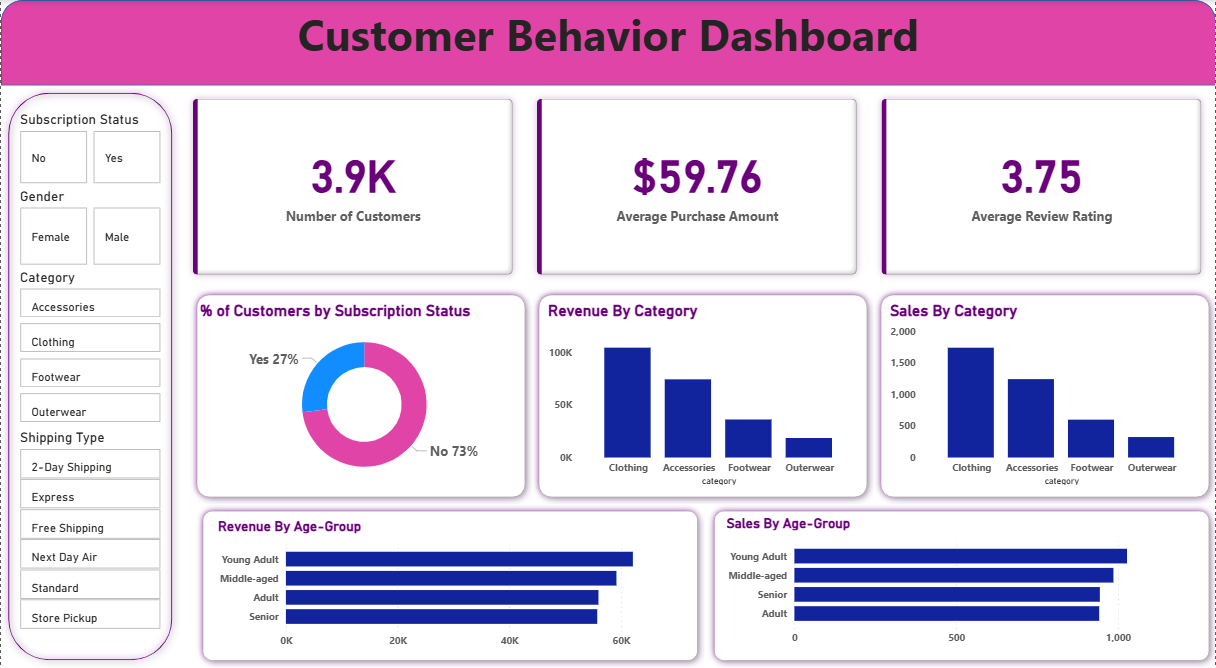

This screenshot's page, from the dashboard's own definition file:
{"tool":"powerbi","page":{"name":"Page 1","canvas":[1492,820],"ordinal":0},"visuals":[{"type":"cardVisual","fields":{"Data":["public customer.Number of Customers","public customer.Average Purchase Amount","public customer.Average Review Rating"]},"box":[219.3,105,1273.3,248.8],"z":0},{"type":"shape","box":[0,0,1492.6,105],"z":1000},{"type":"textbox","box":[0,0,1492.6,105],"z":2000},{"type":"shape","box":[232.2,353.8,420.1,265.3],"z":3000},{"type":"donutChart","title":"% of Customers by Subscription Status","fields":{"Category":["public customer.subscription_status"],"Y":["CountNonNull(public customer.customer_id)"]},"box":[239.6,370.4,412.8,230.3],"z":4000},{"type":"shape","box":[1072.4,353.8,420.1,265.3],"z":5000},{"type":"shape","box":[652.3,353.8,420.1,265.3],"z":6000},{"type":"clusteredColumnChart","title":"Revenue By Category","fields":{"Y":["Sum(public customer.purchase_amount)"],"Category":["public customer.category"]},"box":[667.1,370.4,390.7,230.3],"z":7000},{"type":"clusteredColumnChart","title":"Sales By Category","fields":{"Y":["CountNonNull(public customer.customer_id)"],"Category":["public customer.category"]},"box":[1087.2,370.4,390.7,230.3],"z":8000},{"type":"shape","box":[0,105,219.3,715],"z":9000},{"type":"advancedSlicerVisual","title":"Subscription Status","fields":{"Values":["public customer.subscription_status"]},"box":[18.4,136.4,182.4,94],"z":10000},{"type":"advancedSlicerVisual","title":"Gender","fields":{"Values":["public customer.gender"]},"box":[18.4,230.3,182.4,99.5],"z":11000},{"type":"advancedSlicerVisual","title":"Category","fields":{"Values":["public customer.category"]},"box":[18.4,329.8,182.4,197.2],"z":12000},{"type":"advancedSlicerVisual","title":"Shipping Type","fields":{"Values":["public customer.shipping_type"]},"box":[18.4,527,182.4,254.3],"z":13000},{"type":"shape","box":[239.6,619.1,624.7,200.9],"z":14000},{"type":"clusteredBarChart","title":"Revenue By Age-Group","fields":{"Y":["Sum(public customer.purchase_amount)"],"Category":["public customer.age_group"]},"box":[261.7,635.7,584.1,169.5],"z":15000},{"type":"shape","box":[867.9,619.1,624.7,200.9],"z":16000},{"type":"clusteredBarChart","title":"Sales By Age-Group","fields":{"Y":["CountNonNull(public customer.customer_id)"],"Category":["public customer.age_group"]},"box":[886.3,632,586,169.5],"z":17000}]}

Visuals, with their boxes in screenshot pixels (x1, y1, x2, y2), scaled from the page's 1492x820 canvas onto the 1216x668 screenshot:
cardVisual - public customer.Number of Customers x public customer.Average Purchase Amount: crop(179, 86, 1215, 288)
shape: crop(0, 0, 1215, 86)
textbox: crop(0, 0, 1215, 86)
shape: crop(189, 288, 532, 504)
"% of Customers by Subscription Status" donutChart: crop(195, 302, 532, 489)
shape: crop(874, 288, 1215, 504)
shape: crop(532, 288, 874, 504)
"Revenue By Category" clusteredColumnChart: crop(544, 302, 862, 489)
"Sales By Category" clusteredColumnChart: crop(886, 302, 1205, 489)
shape: crop(0, 86, 179, 667)
"Subscription Status" advancedSlicerVisual: crop(15, 111, 164, 188)
"Gender" advancedSlicerVisual: crop(15, 188, 164, 269)
"Category" advancedSlicerVisual: crop(15, 269, 164, 429)
"Shipping Type" advancedSlicerVisual: crop(15, 429, 164, 636)
shape: crop(195, 504, 704, 667)
"Revenue By Age-Group" clusteredBarChart: crop(213, 518, 689, 656)
shape: crop(707, 504, 1215, 667)
"Sales By Age-Group" clusteredBarChart: crop(722, 515, 1200, 653)
